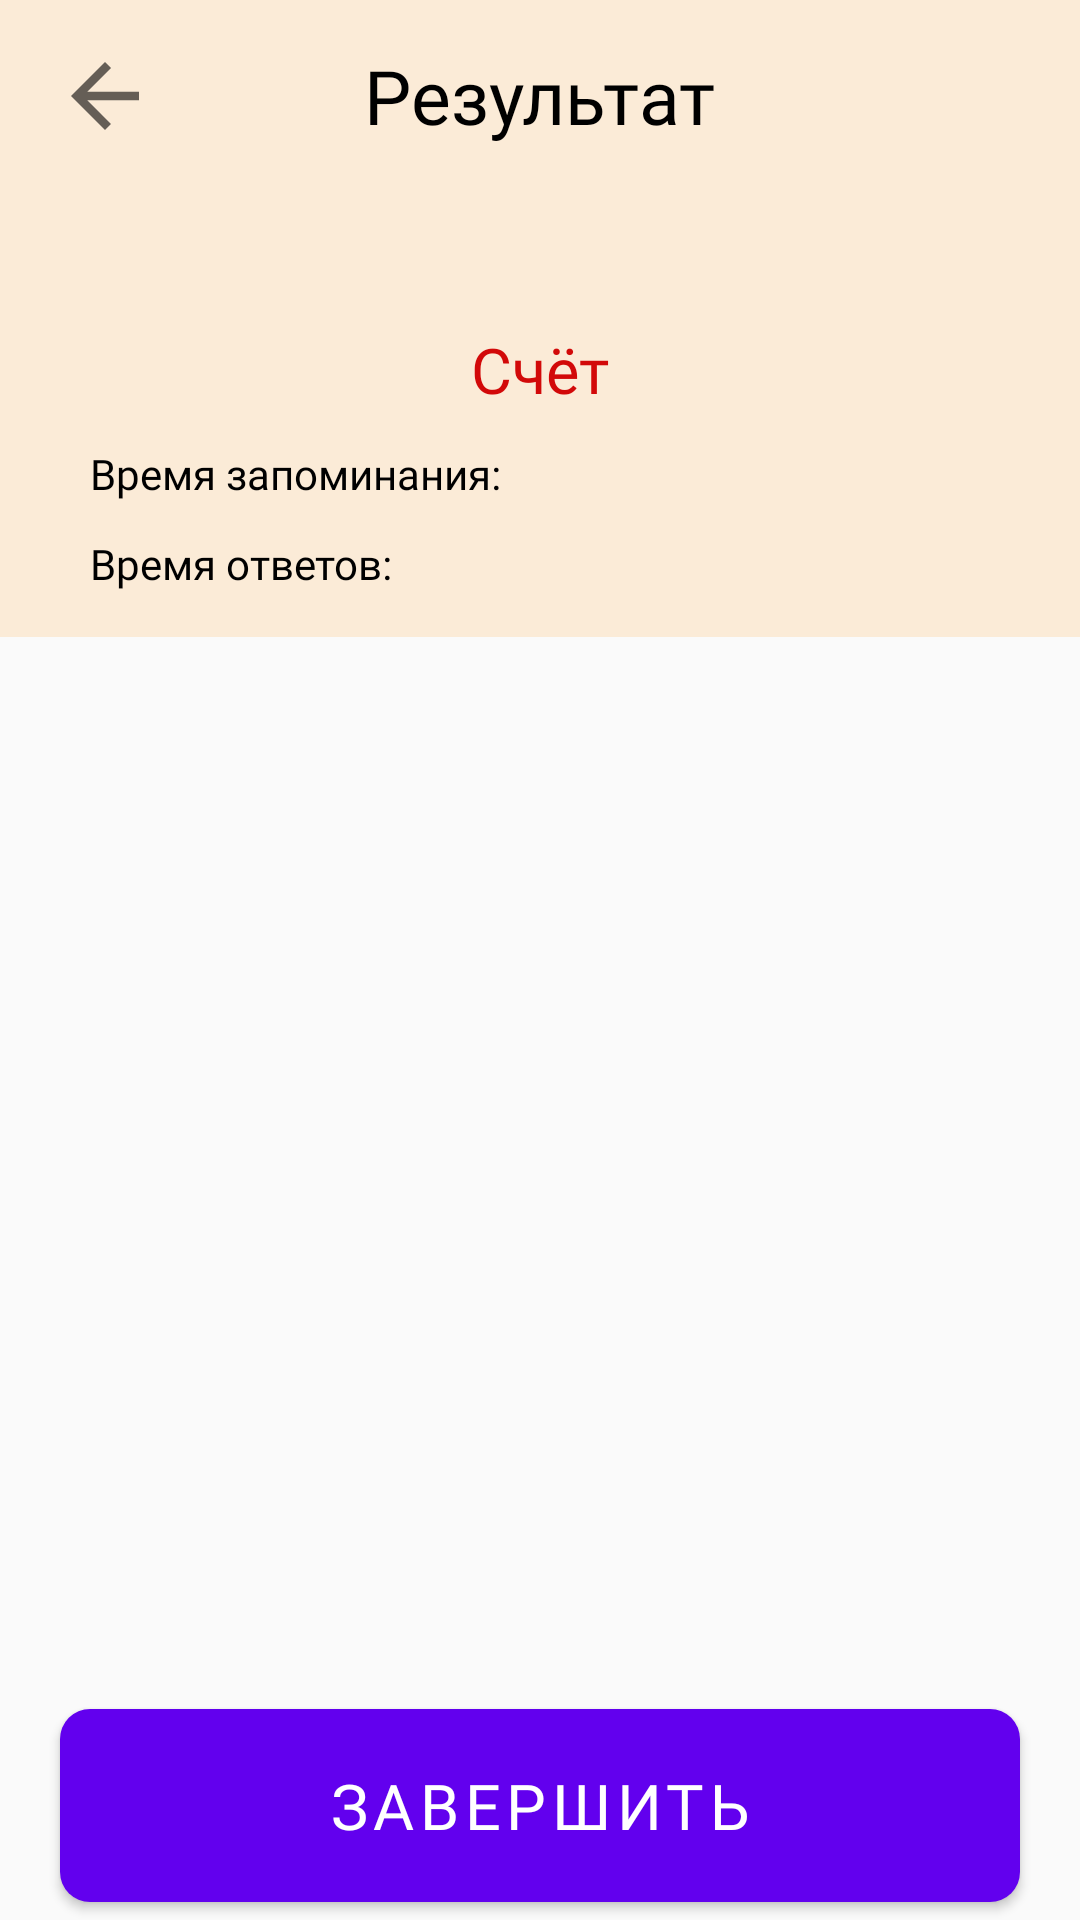

Icon click points for this 1080*1920 phone screenshot, format point (x, y):
arrow back: point (105, 96)
